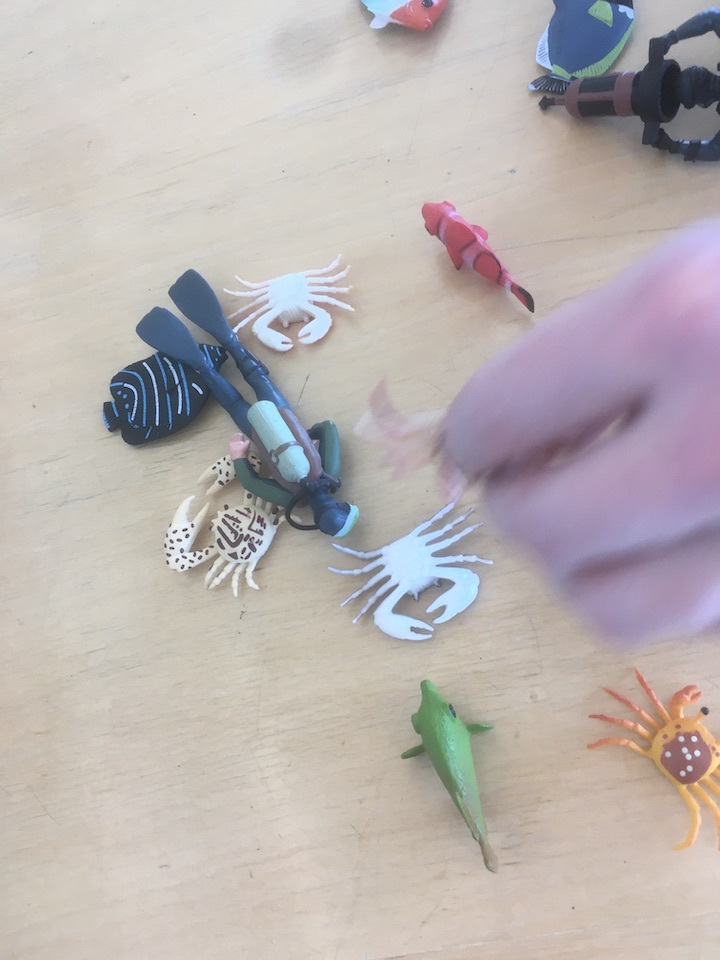crab: (159, 432, 322, 599), (580, 664, 720, 857), (328, 495, 504, 646), (205, 251, 360, 355)
diver: (134, 262, 366, 544), (537, 5, 720, 171)
fish: (396, 675, 512, 883), (97, 334, 249, 452), (409, 189, 541, 320), (528, 1, 642, 95), (342, 1, 456, 43)
